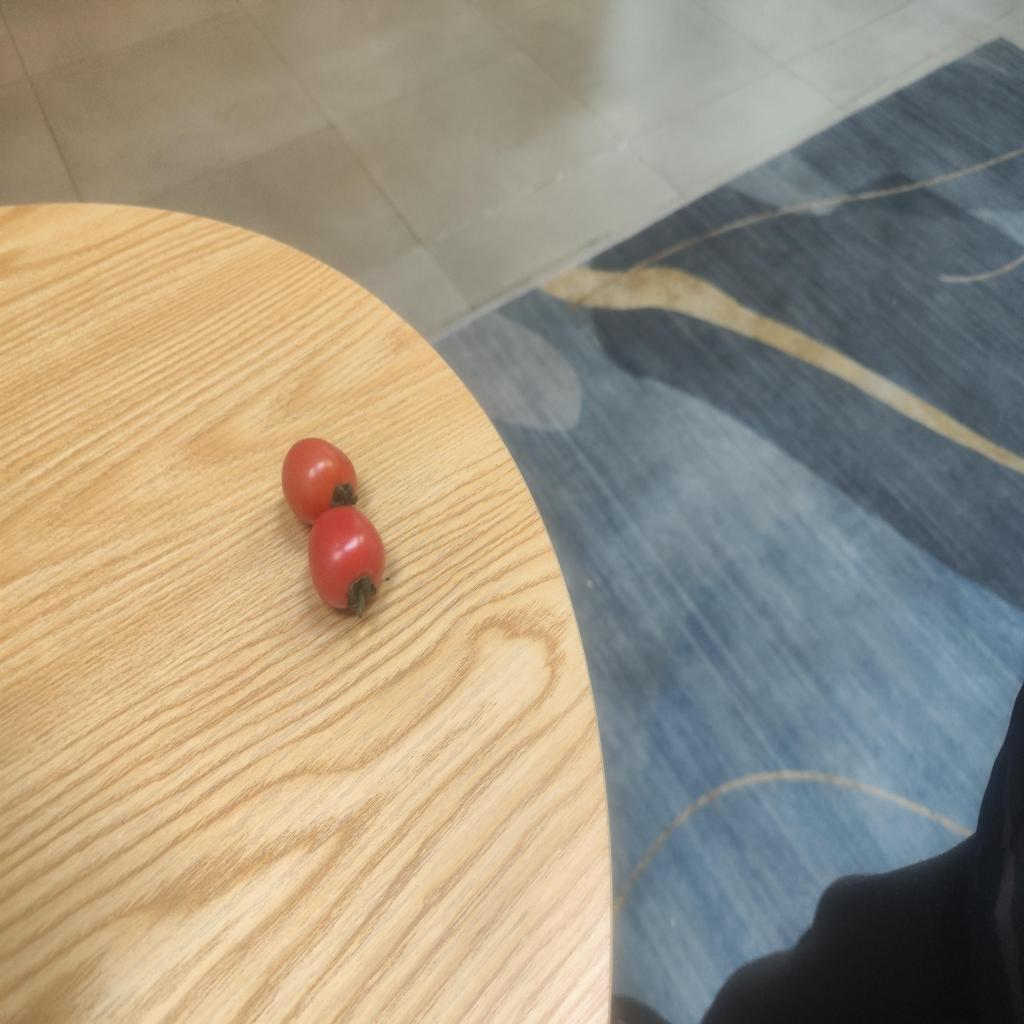tomato: (298, 505, 388, 619), (270, 437, 368, 522)
